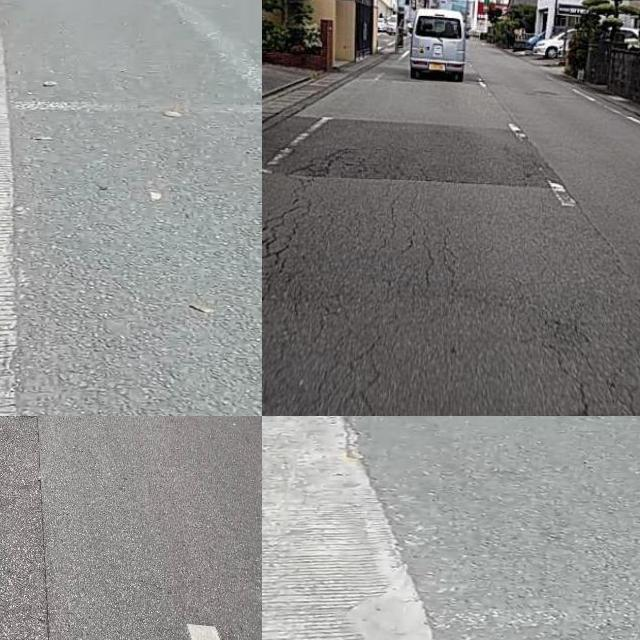Retak Buaya: (262, 201, 318, 332)
Sambungan: (262, 416, 427, 640), (262, 114, 560, 191)
